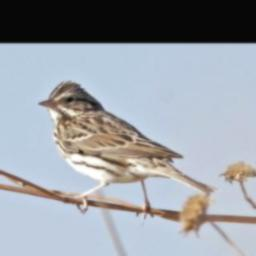Sparrow: (37, 80, 218, 222)
